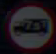Heavy Vehicles: (6, 4, 52, 45)
